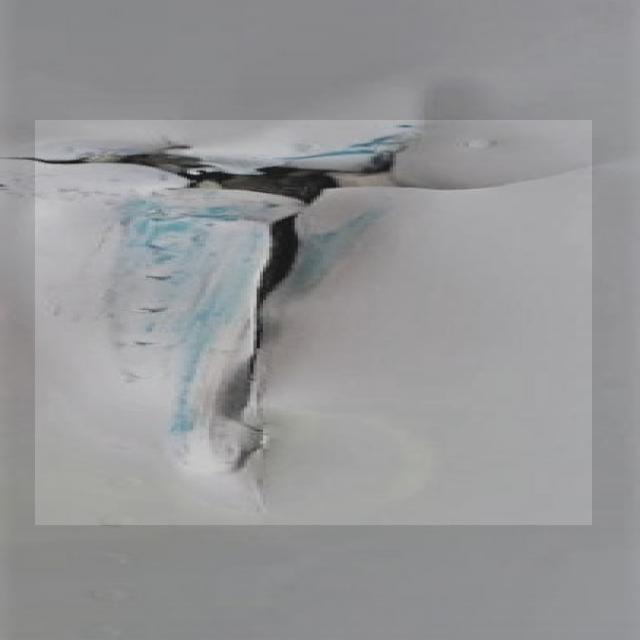crack: (36, 121, 593, 526)
